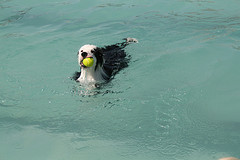tennis ball: (82, 56, 95, 67)
